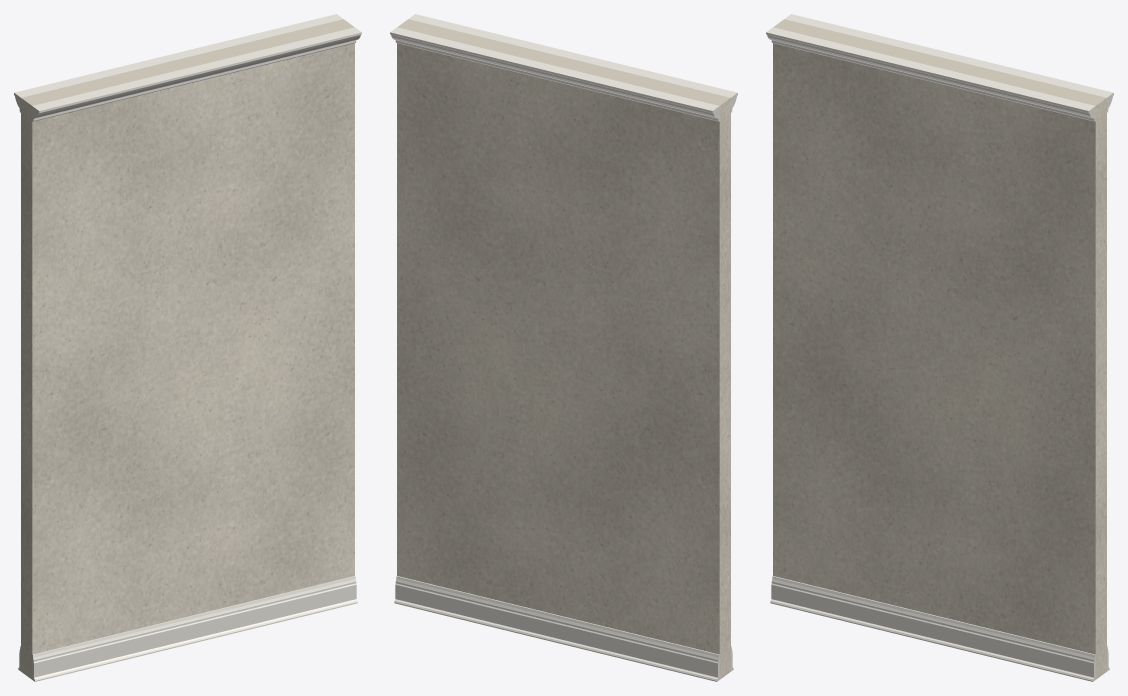
The model's file is interior_wall_plain.glb.
3 views of the same model, side by side, from view 1: azimuth 30°, elevation 25°; view 2: azimuth 150°, elevation 25°; view 3: azimuth 330°, elevation 25° (orthographic).
Visible parts, largest first — view 1: interior_wall_plain_plaster, molduras; view 2: interior_wall_plain_plaster, molduras; view 3: interior_wall_plain_plaster, molduras.
Boxes of the visible parts, x1,y1,x2,y2 form: interior_wall_plain_plaster: [21, 19, 354, 679]; molduras: [14, 14, 361, 681]; interior_wall_plain_plaster: [397, 19, 730, 679]; molduras: [390, 14, 737, 681]; interior_wall_plain_plaster: [773, 19, 1106, 679]; molduras: [766, 14, 1113, 681].
Size of the model in its own units: 2 by 3.4 by 0.27.
Materials: 2 (1 with a texture image).
